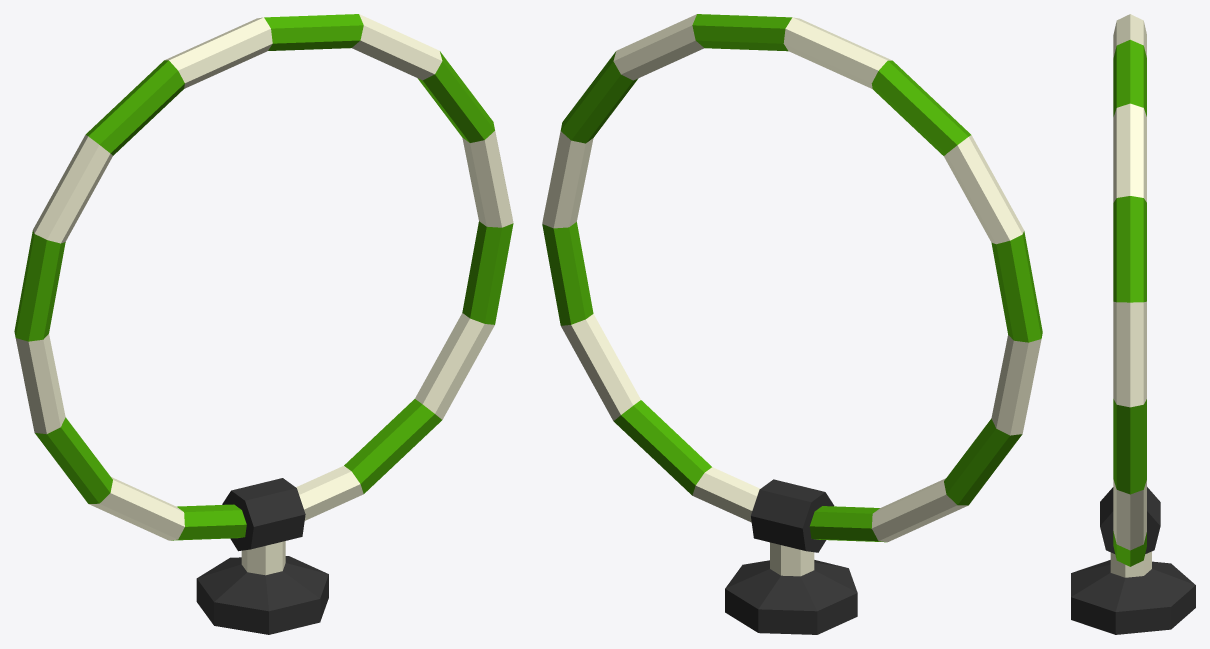
The model's file is RingChekpoint.fbx.
3 renders of one model, left to right at view 1: azimuth 30°, elevation 25°; view 2: azimuth 150°, elevation 25°; view 3: azimuth 270°, elevation 25°, orthographic. The views are drawn at different scales.
Parts seen in each view (by area): view 1: RingCheckpoint_Active, RingCheckpoint_Base, RingCheckpoint_Clamp, RingCheckpoint_Pole; view 2: RingCheckpoint_Active, RingCheckpoint_Base, RingCheckpoint_Clamp, RingCheckpoint_Pole; view 3: RingCheckpoint_Active, RingCheckpoint_Base, RingCheckpoint_Clamp, RingCheckpoint_Pole.
Part boxes in pixels (x1,y1,x2,y2): RingCheckpoint_Active: [14, 14, 513, 540]; RingCheckpoint_Base: [196, 556, 328, 634]; RingCheckpoint_Clamp: [222, 478, 305, 551]; RingCheckpoint_Pole: [241, 541, 285, 575]; RingCheckpoint_Active: [542, 14, 1042, 542]; RingCheckpoint_Base: [725, 560, 857, 634]; RingCheckpoint_Clamp: [751, 479, 834, 552]; RingCheckpoint_Pole: [770, 542, 814, 576]; RingCheckpoint_Active: [1113, 14, 1146, 566]; RingCheckpoint_Base: [1071, 560, 1195, 634]; RingCheckpoint_Clamp: [1100, 487, 1160, 553]; RingCheckpoint_Pole: [1110, 551, 1151, 577].
Size of the model in its own units: 960 by 1088 by 216.
